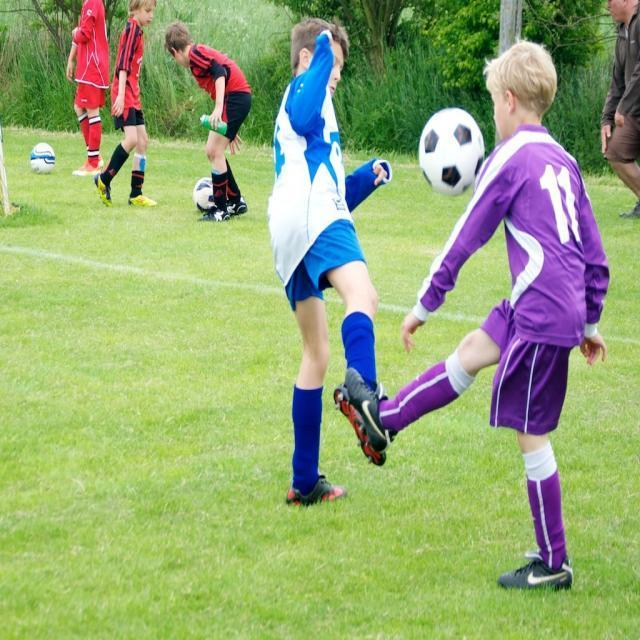football: (406, 93, 484, 206), (25, 142, 66, 189), (182, 169, 228, 208)
